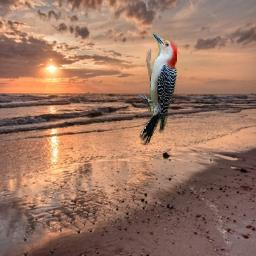Woodpecker: (139, 33, 178, 146)
